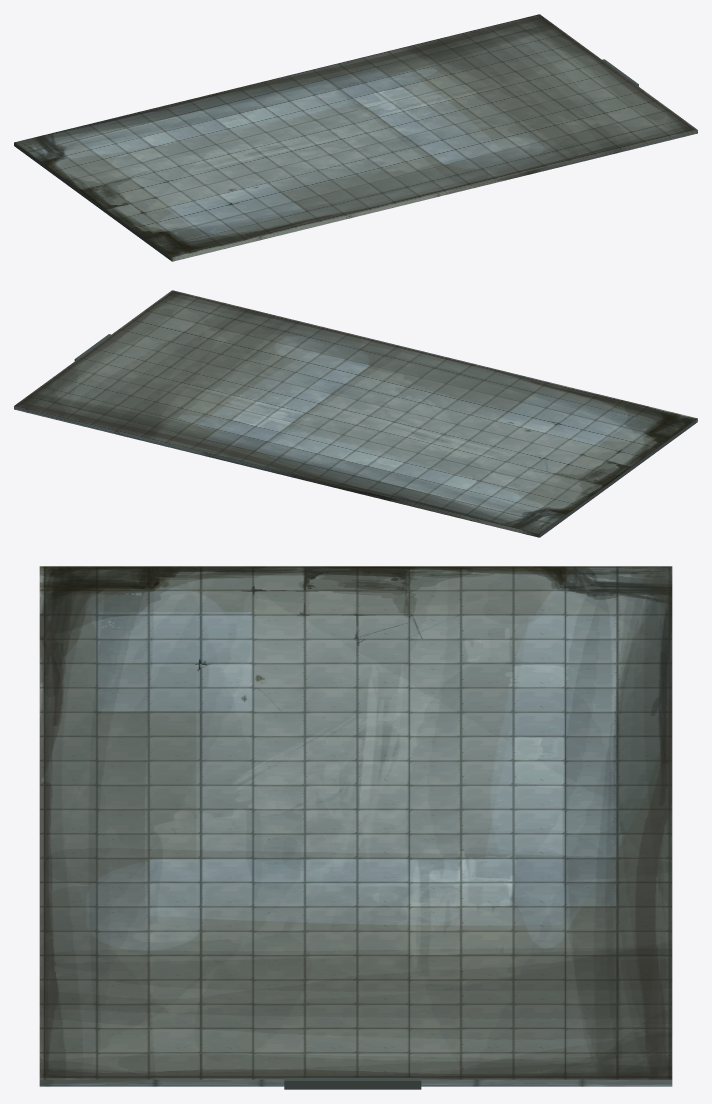
The model's file is SM_resfloor.fbx.
3 renders of one model, top to bottom at view 1: azimuth 30°, elevation 25°; view 2: azimuth 150°, elevation 25°; view 3: azimuth 270°, elevation 25°, orthographic. The views are drawn at different scales.
Parts seen in each view (by area): view 1: SM_resfloor; view 2: SM_resfloor; view 3: SM_resfloor.
Part boxes in pixels (box(x1,y1,x2,y2)): SM_resfloor: box(14, 14, 697, 261); SM_resfloor: box(14, 290, 697, 537); SM_resfloor: box(39, 566, 672, 1089).
Size of the model in its own units: 1090 by 8.58 by 566.
